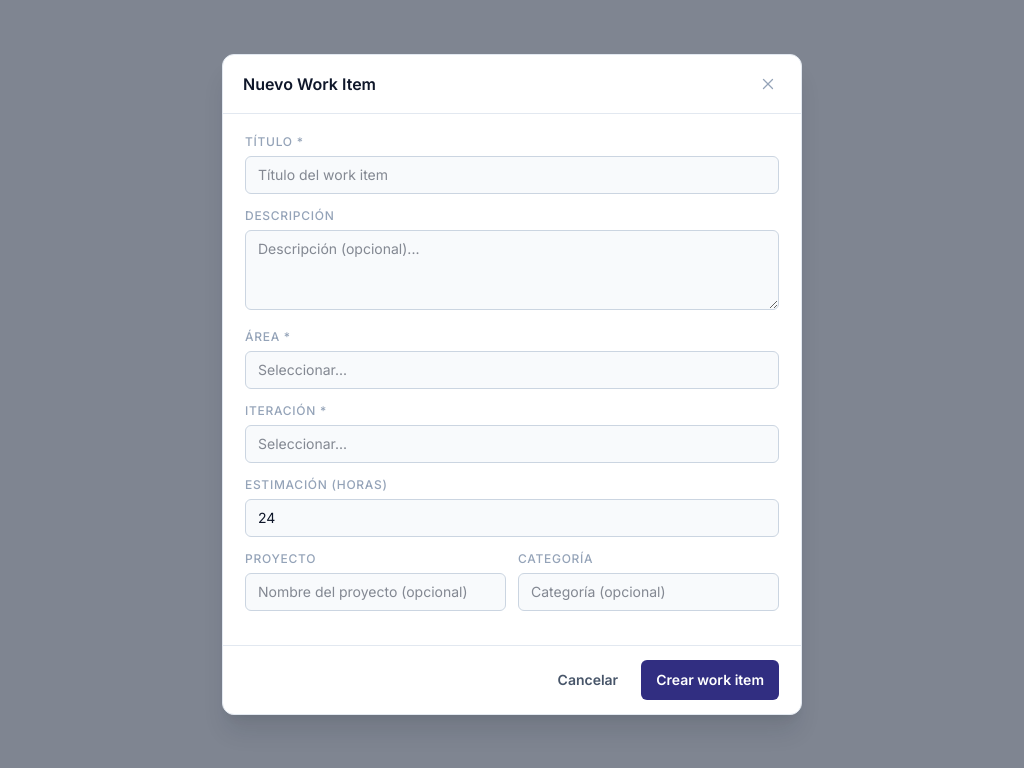
CreateWorkItemModal › shows the create error without closing the modal
This screenshot has width=1024, height=768.
Type "T" into the field with placeholder "Título del work item" at (512, 174), box [245,156,779,194]
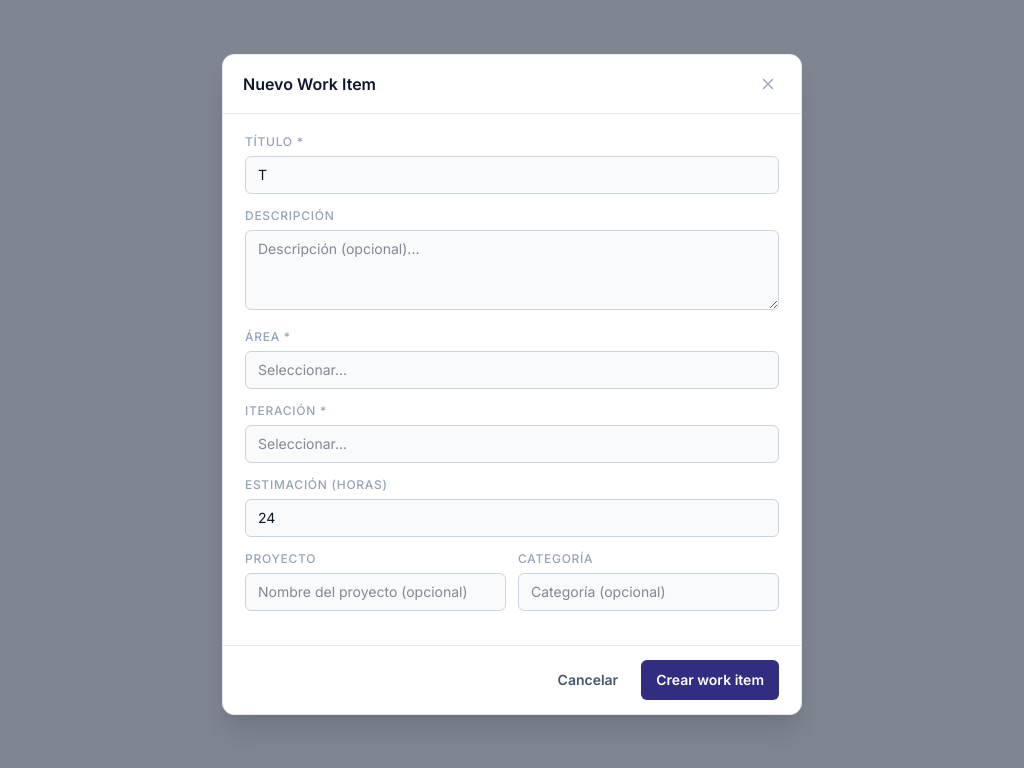
Click the dropdown named "Área *" at (512, 370), box [245,350,779,388]
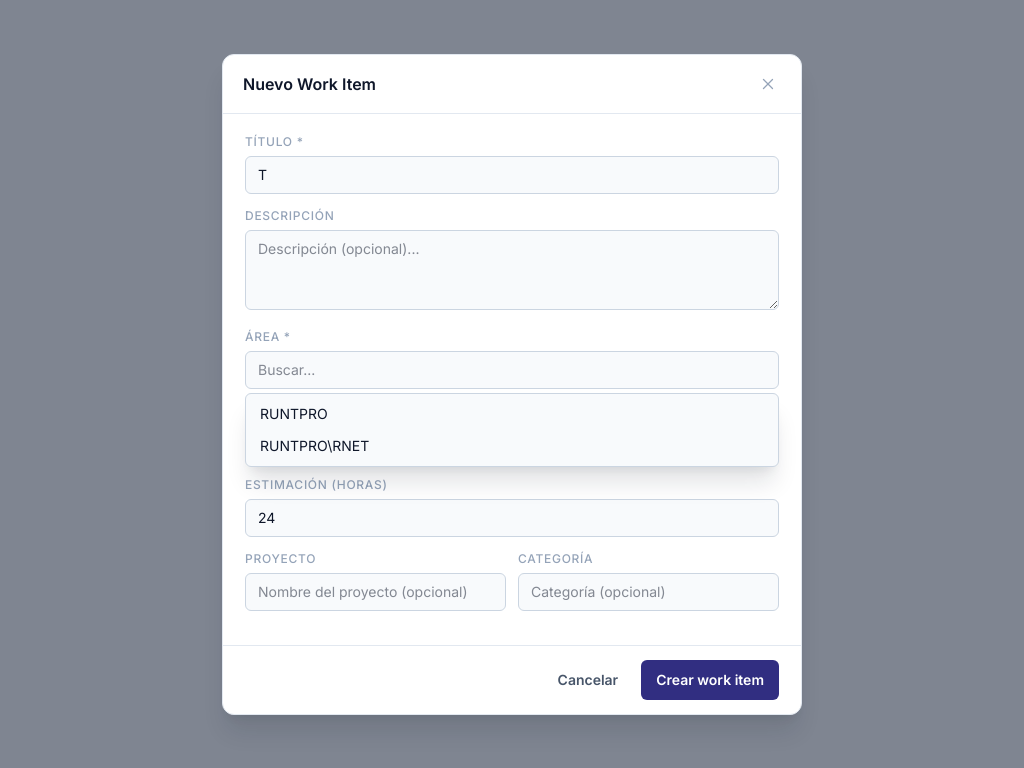
Click the option "RUNTPRO\\RNET" at (315, 445), box [260,436,369,454]
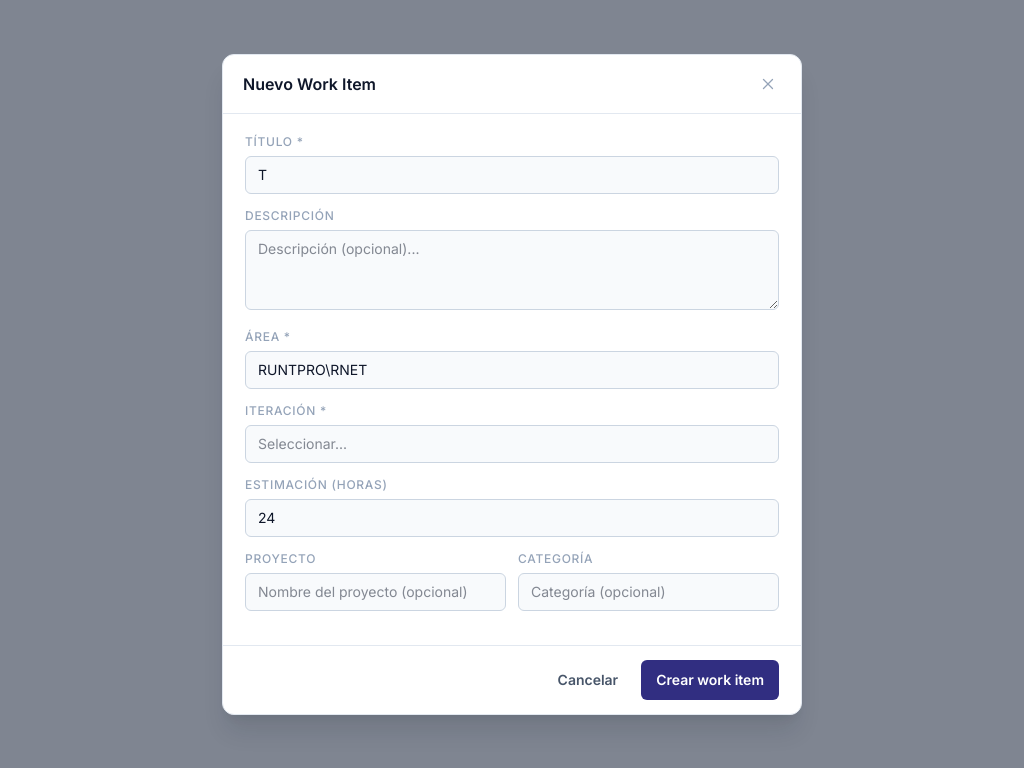
Click the dropdown named "Iteración *" at (512, 444), box [245,424,779,462]
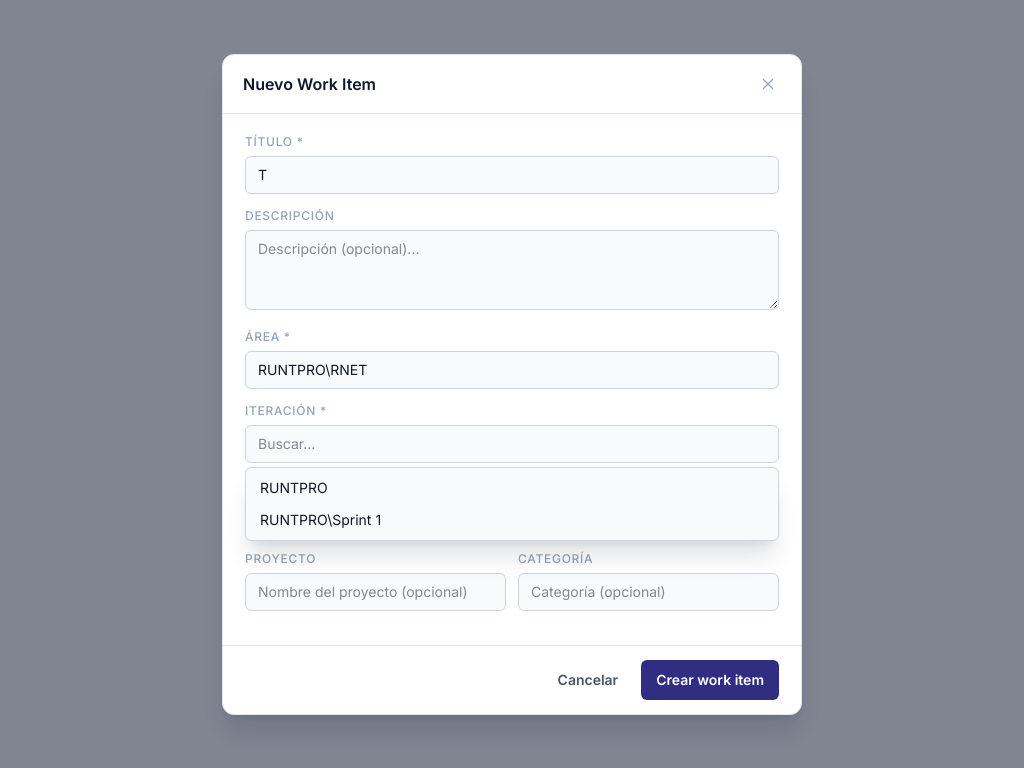
Click the option "RUNTPRO\\Sprint 1" at (321, 519), box [260,510,381,528]
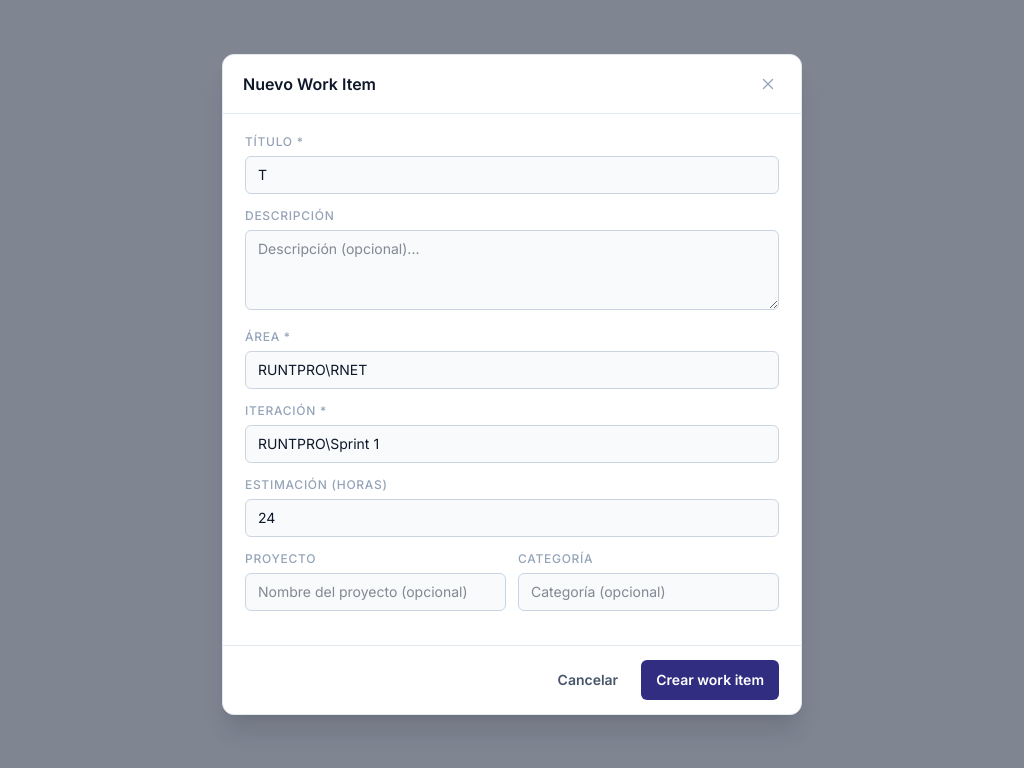
Click the button "Crear work item" at (710, 680), box [641,660,779,700]
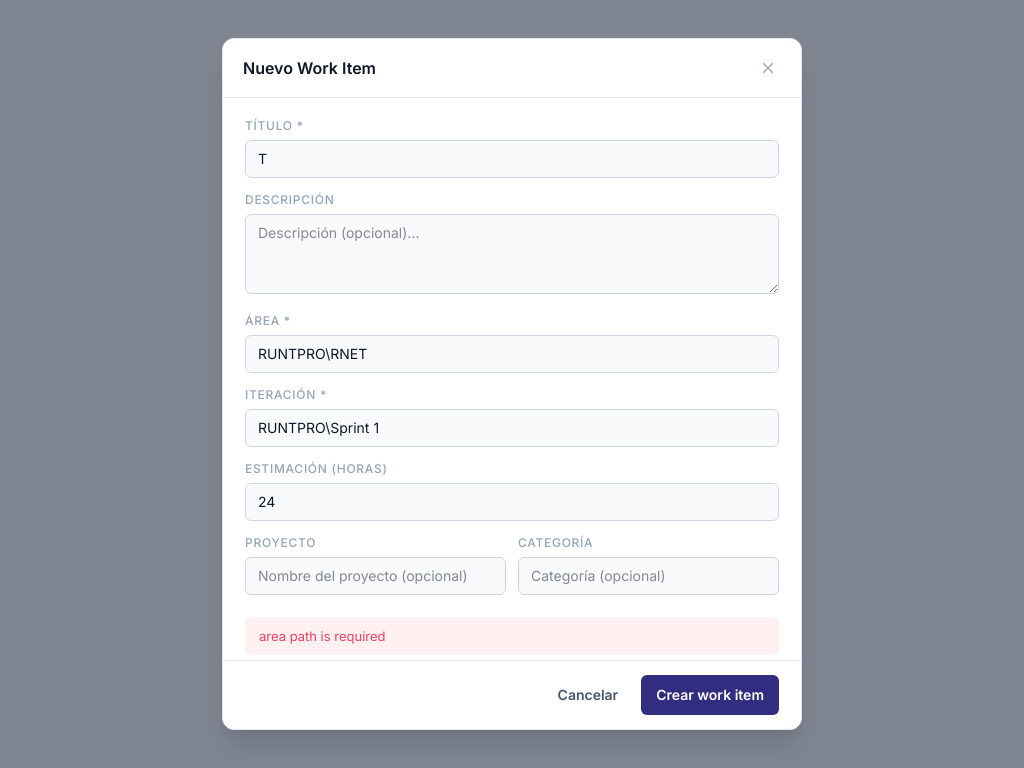
Expected: the text "area path is required" is shown, [245,617,779,655]
